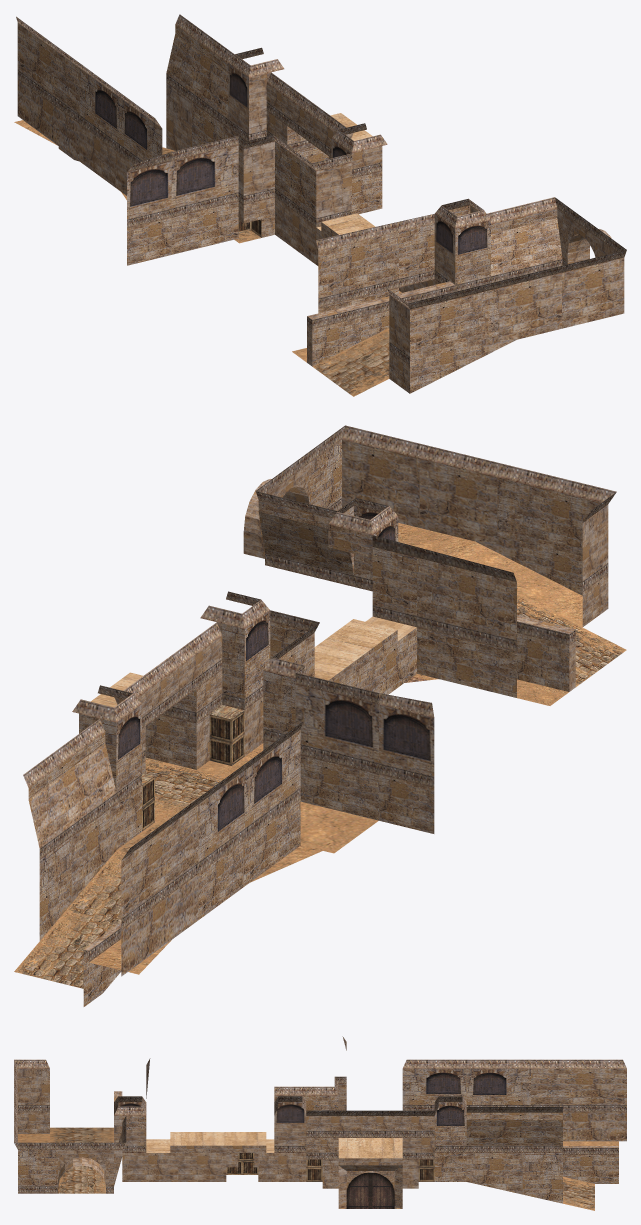
File: 256DustParts4.fbx
3 renders of one model, top to bottom at view 1: azimuth 30°, elevation 25°; view 2: azimuth 150°, elevation 25°; view 3: azimuth 270°, elevation 25°, orthographic. The views are drawn at different scales.
Visible parts, largest first — view 1: Trigger4; view 2: Trigger4; view 3: Trigger4.
Part boxes in pixels (x1=…): Trigger4: x1=14, y1=14, x2=626, y2=396; Trigger4: x1=14, y1=425, x2=626, y2=1006; Trigger4: x1=14, y1=1036, x2=626, y2=1210.
Bounding box in the file's own units: 27.84 × 12.91 × 61.74.
Materials: 1 (1 with a texture image).
